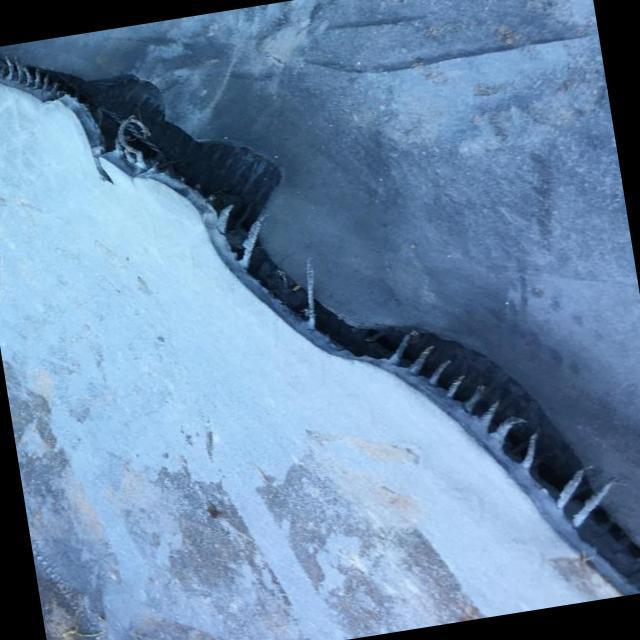Tear: (0, 46, 640, 600)
